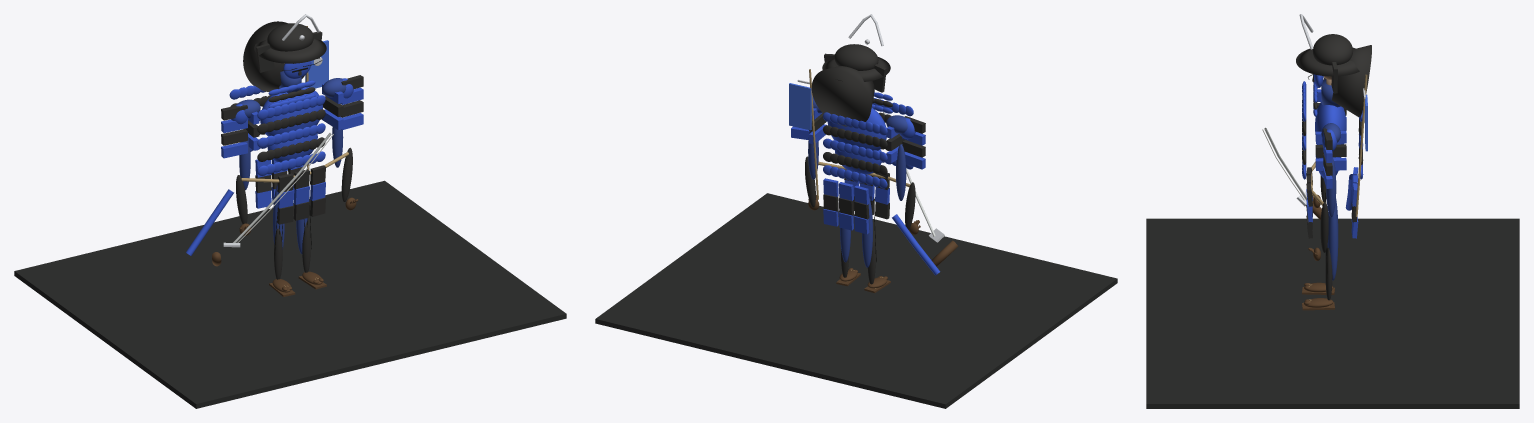
Rendered from samurai_character.glb.
3 renders of one model, left to right at view 1: azimuth 30°, elevation 25°; view 2: azimuth 150°, elevation 25°; view 3: azimuth 270°, elevation 25°, orthographic. The views are drawn at different scales.
Parts seen in each view (by area): view 1: matte charcoal inspection plinth, rear shikoro neck guard flare, segmented kabuto helmet bowl, wide kabuto brim, upper do cuirass fitted shell, cloth sashimono banner panel, lacquered saya scabbard at left hip; view 2: matte charcoal inspection plinth, rear shikoro neck guard flare, cloth sashimono banner panel, segmented kabuto helmet bowl, upper do cuirass fitted shell, lacquered saya scabbard at left hip, left armored upper arm; view 3: matte charcoal inspection plinth, rear shikoro neck guard flare, segmented kabuto helmet bowl, wide kabuto brim, upper do cuirass fitted shell, right hakama trouser leg, bamboo sashimono back pole, right kote forearm guard, right armored upper arm.
Boxes of the visible parts, bbox=[...] form: matte charcoal inspection plinth: bbox=[14, 180, 566, 408]; rear shikoro neck guard flare: bbox=[243, 21, 304, 91]; segmented kabuto helmet bowl: bbox=[267, 23, 313, 51]; wide kabuto brim: bbox=[254, 38, 326, 63]; upper do cuirass fitted shell: bbox=[260, 87, 322, 136]; cloth sashimono banner panel: bbox=[305, 40, 328, 88]; lacquered saya scabbard at left hip: bbox=[186, 189, 233, 255]; matte charcoal inspection plinth: bbox=[595, 193, 1117, 408]; rear shikoro neck guard flare: bbox=[811, 66, 874, 127]; cloth sashimono banner panel: bbox=[789, 83, 811, 130]; segmented kabuto helmet bowl: bbox=[834, 44, 878, 70]; upper do cuirass fitted shell: bbox=[827, 107, 886, 150]; lacquered saya scabbard at left hip: bbox=[892, 214, 940, 275]; left armored upper arm: bbox=[896, 144, 906, 200]; matte charcoal inspection plinth: bbox=[1146, 218, 1519, 408]; rear shikoro neck guard flare: bbox=[1332, 45, 1371, 117]; segmented kabuto helmet bowl: bbox=[1313, 34, 1352, 65]; wide kabuto brim: bbox=[1296, 47, 1359, 76]; upper do cuirass fitted shell: bbox=[1315, 102, 1346, 144]; right hakama trouser leg: bbox=[1327, 206, 1338, 280]; bamboo sashimono back pole: bbox=[1355, 74, 1367, 216]; right kote forearm guard: bbox=[1320, 201, 1328, 252]; right armored upper arm: bbox=[1326, 158, 1336, 217].
Bounding box in the file's own units: 4 × 3.04 × 3.4.
